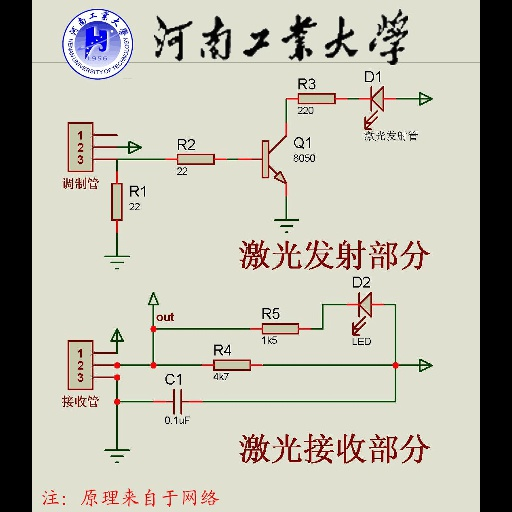capacitor: (165, 389, 191, 415)
firstresistance: (254, 318, 305, 337), (107, 178, 126, 224), (208, 356, 257, 372), (171, 152, 222, 166), (296, 91, 339, 106)
gnd: (97, 445, 138, 470)
npn: (254, 128, 292, 191)
seconddiode: (347, 291, 381, 337), (362, 82, 387, 131)
